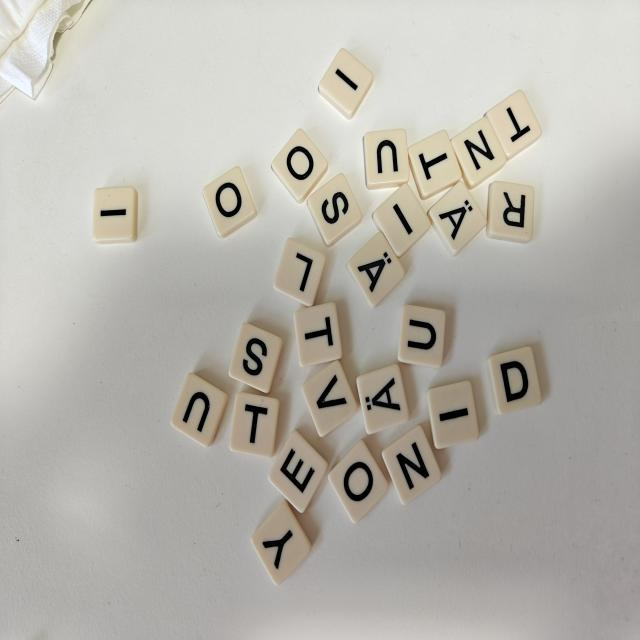a_dot: (428, 181, 487, 256), (347, 232, 405, 306), (356, 364, 409, 434)
d: (488, 346, 541, 414)
e: (269, 431, 328, 512)
i: (373, 184, 431, 257), (319, 49, 373, 119), (427, 381, 479, 449), (93, 186, 138, 244)
l: (274, 238, 326, 306)
n: (382, 425, 441, 504), (451, 117, 506, 189)
o: (329, 440, 388, 522), (272, 129, 328, 203), (203, 166, 257, 238)
r: (486, 182, 534, 243)
s: (308, 174, 362, 246), (229, 323, 282, 392)
t: (486, 90, 541, 159), (408, 130, 462, 200), (230, 392, 279, 458), (294, 302, 342, 367)
u: (171, 373, 228, 446), (398, 305, 445, 368), (363, 129, 409, 189)
v: (302, 360, 358, 436)
y: (251, 501, 311, 585)
